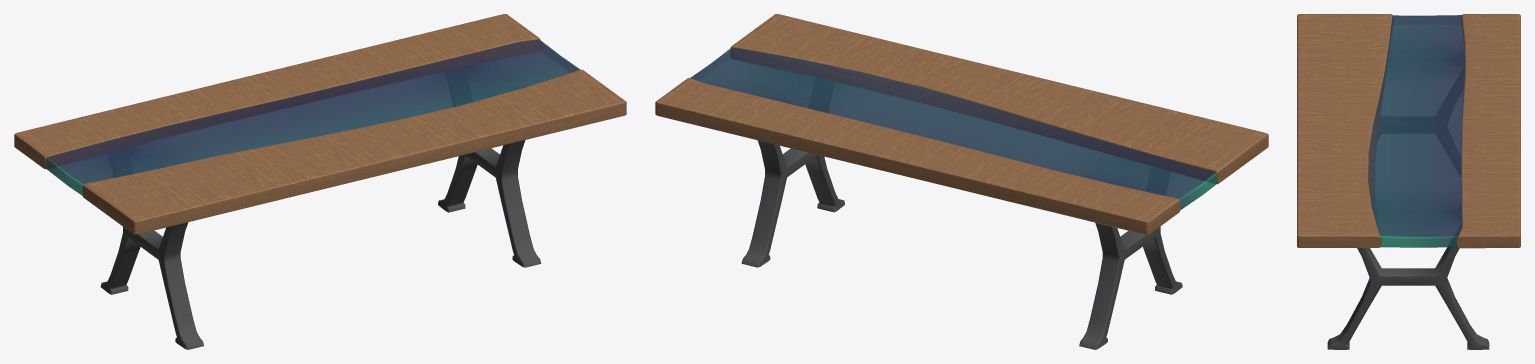
The model's file is center_table.glb.
The picture shows the model from 3 angles, left to right: view 1: azimuth 30°, elevation 25°; view 2: azimuth 150°, elevation 25°; view 3: azimuth 270°, elevation 25°; orthographic projection. The views are drawn at different scales.
Visible parts, largest first — view 1: LP; view 2: LP; view 3: LP.
Part boxes in pixels (x1,y1,x2,y2): LP: (14, 14, 626, 349); LP: (655, 14, 1268, 349); LP: (1297, 14, 1520, 349).
Bounding box in the file's own units: 19.24 × 5.88 × 8.18.
Materials: 1 (1 with a texture image).
